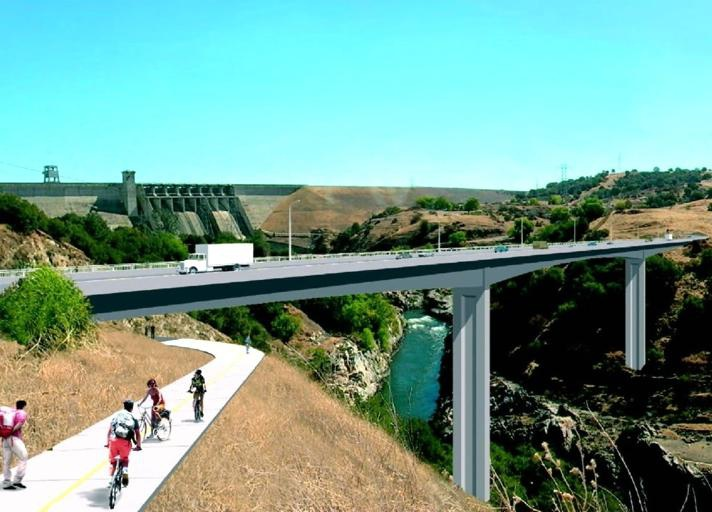non-vehicle: (103, 444, 141, 510), (132, 402, 171, 444), (187, 389, 206, 422)
